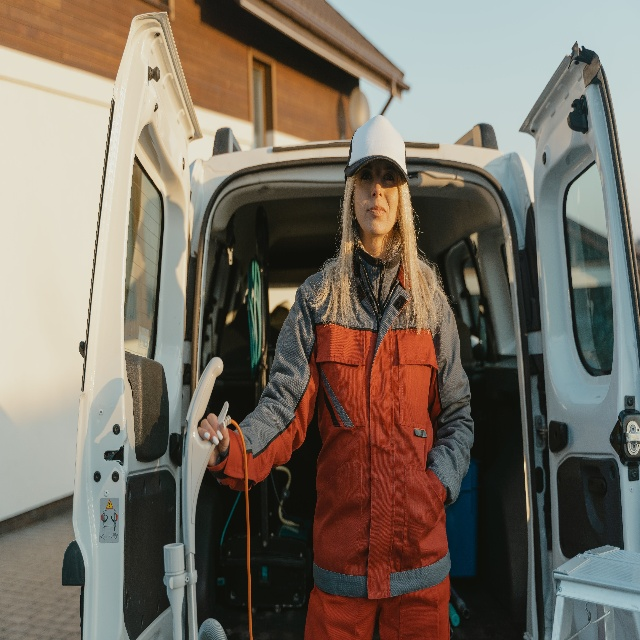Sin_guantes: (197, 413, 230, 468)
